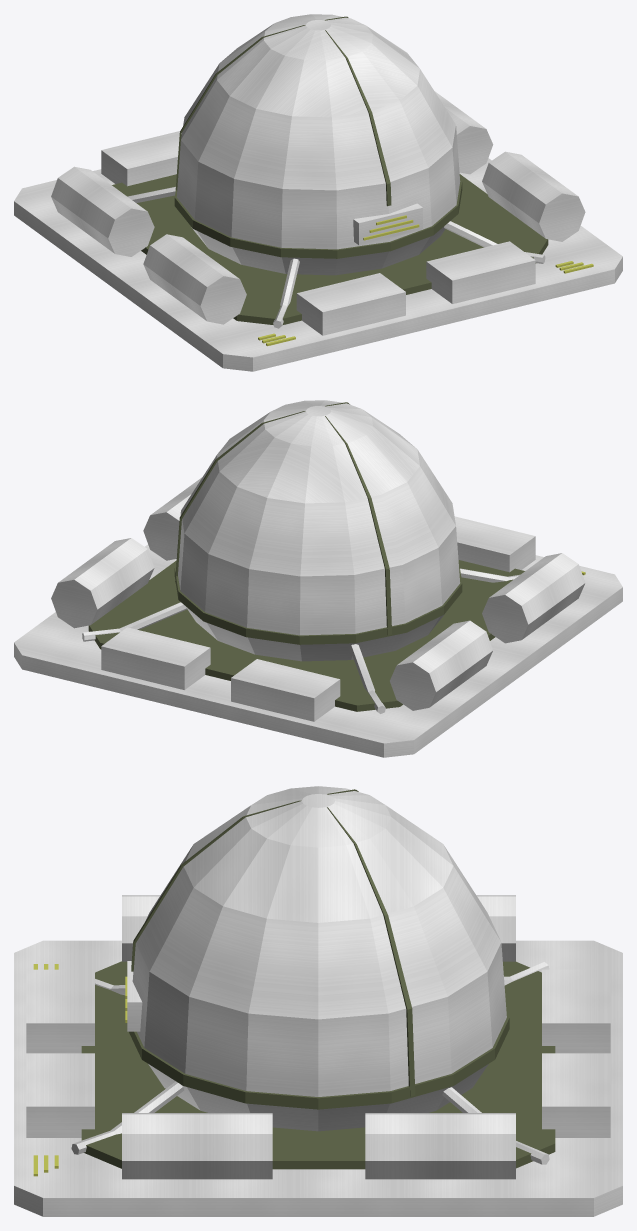
Rendered from psychic_droner.obj.
3 renders of one model, top to bottom at view 1: azimuth 30°, elevation 25°; view 2: azimuth 150°, elevation 25°; view 3: azimuth 270°, elevation 25°, orthographic. The views are drawn at different scales.
Visible parts, largest first — view 1: psychic_droner; view 2: psychic_droner; view 3: psychic_droner.
Boxes of the visible parts, box(x1,y1,x2,y2) form: psychic_droner: box(14, 14, 622, 371); psychic_droner: box(14, 400, 622, 757); psychic_droner: box(14, 786, 622, 1216).
Size of the model in its own units: 5.86 by 3.05 by 5.86.
